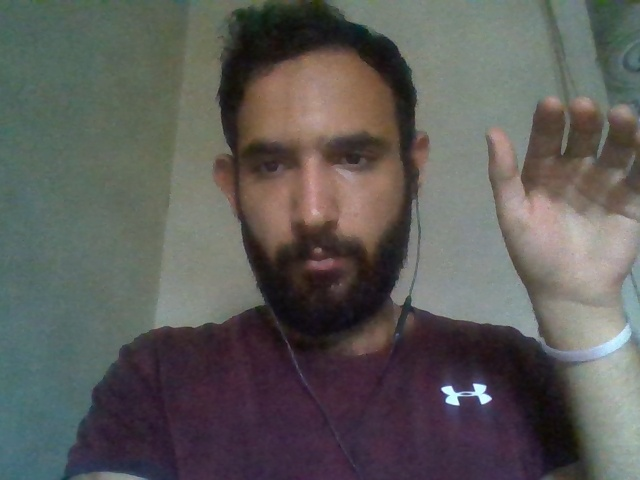Snake: (458, 67, 640, 480)
